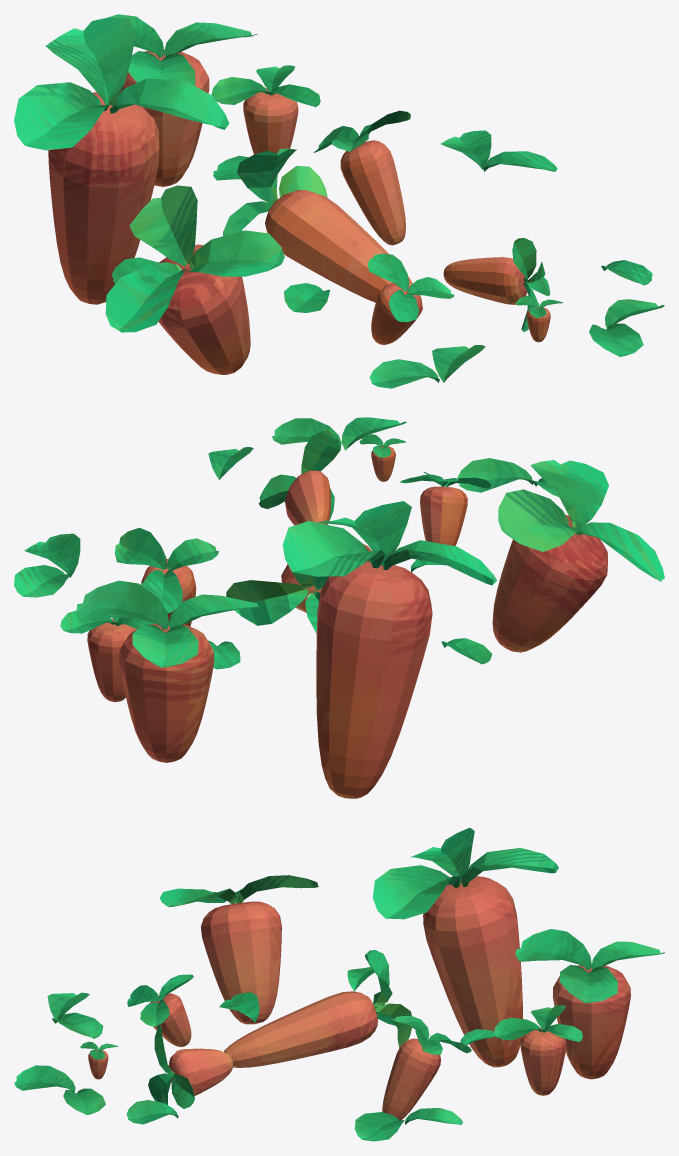
File: archipel.glb
3 renders of one model, top to bottom at view 1: azimuth 30°, elevation 25°; view 2: azimuth 150°, elevation 25°; view 3: azimuth 270°, elevation 25°, orthographic. The views are drawn at different scales.
Parts seen in each view (by area): view 1: Karrot.018; view 2: Karrot.018; view 3: Karrot.018.
Boxes of the visible parts, left/top/right/bottom form: Karrot.018: left=14, top=14, right=664, bottom=388; Karrot.018: left=14, top=417, right=664, bottom=798; Karrot.018: left=14, top=827, right=664, bottom=1141.
Bounding box in the file's own units: 75.65 × 35.55 × 95.81.
2 materials, 2 textured.
